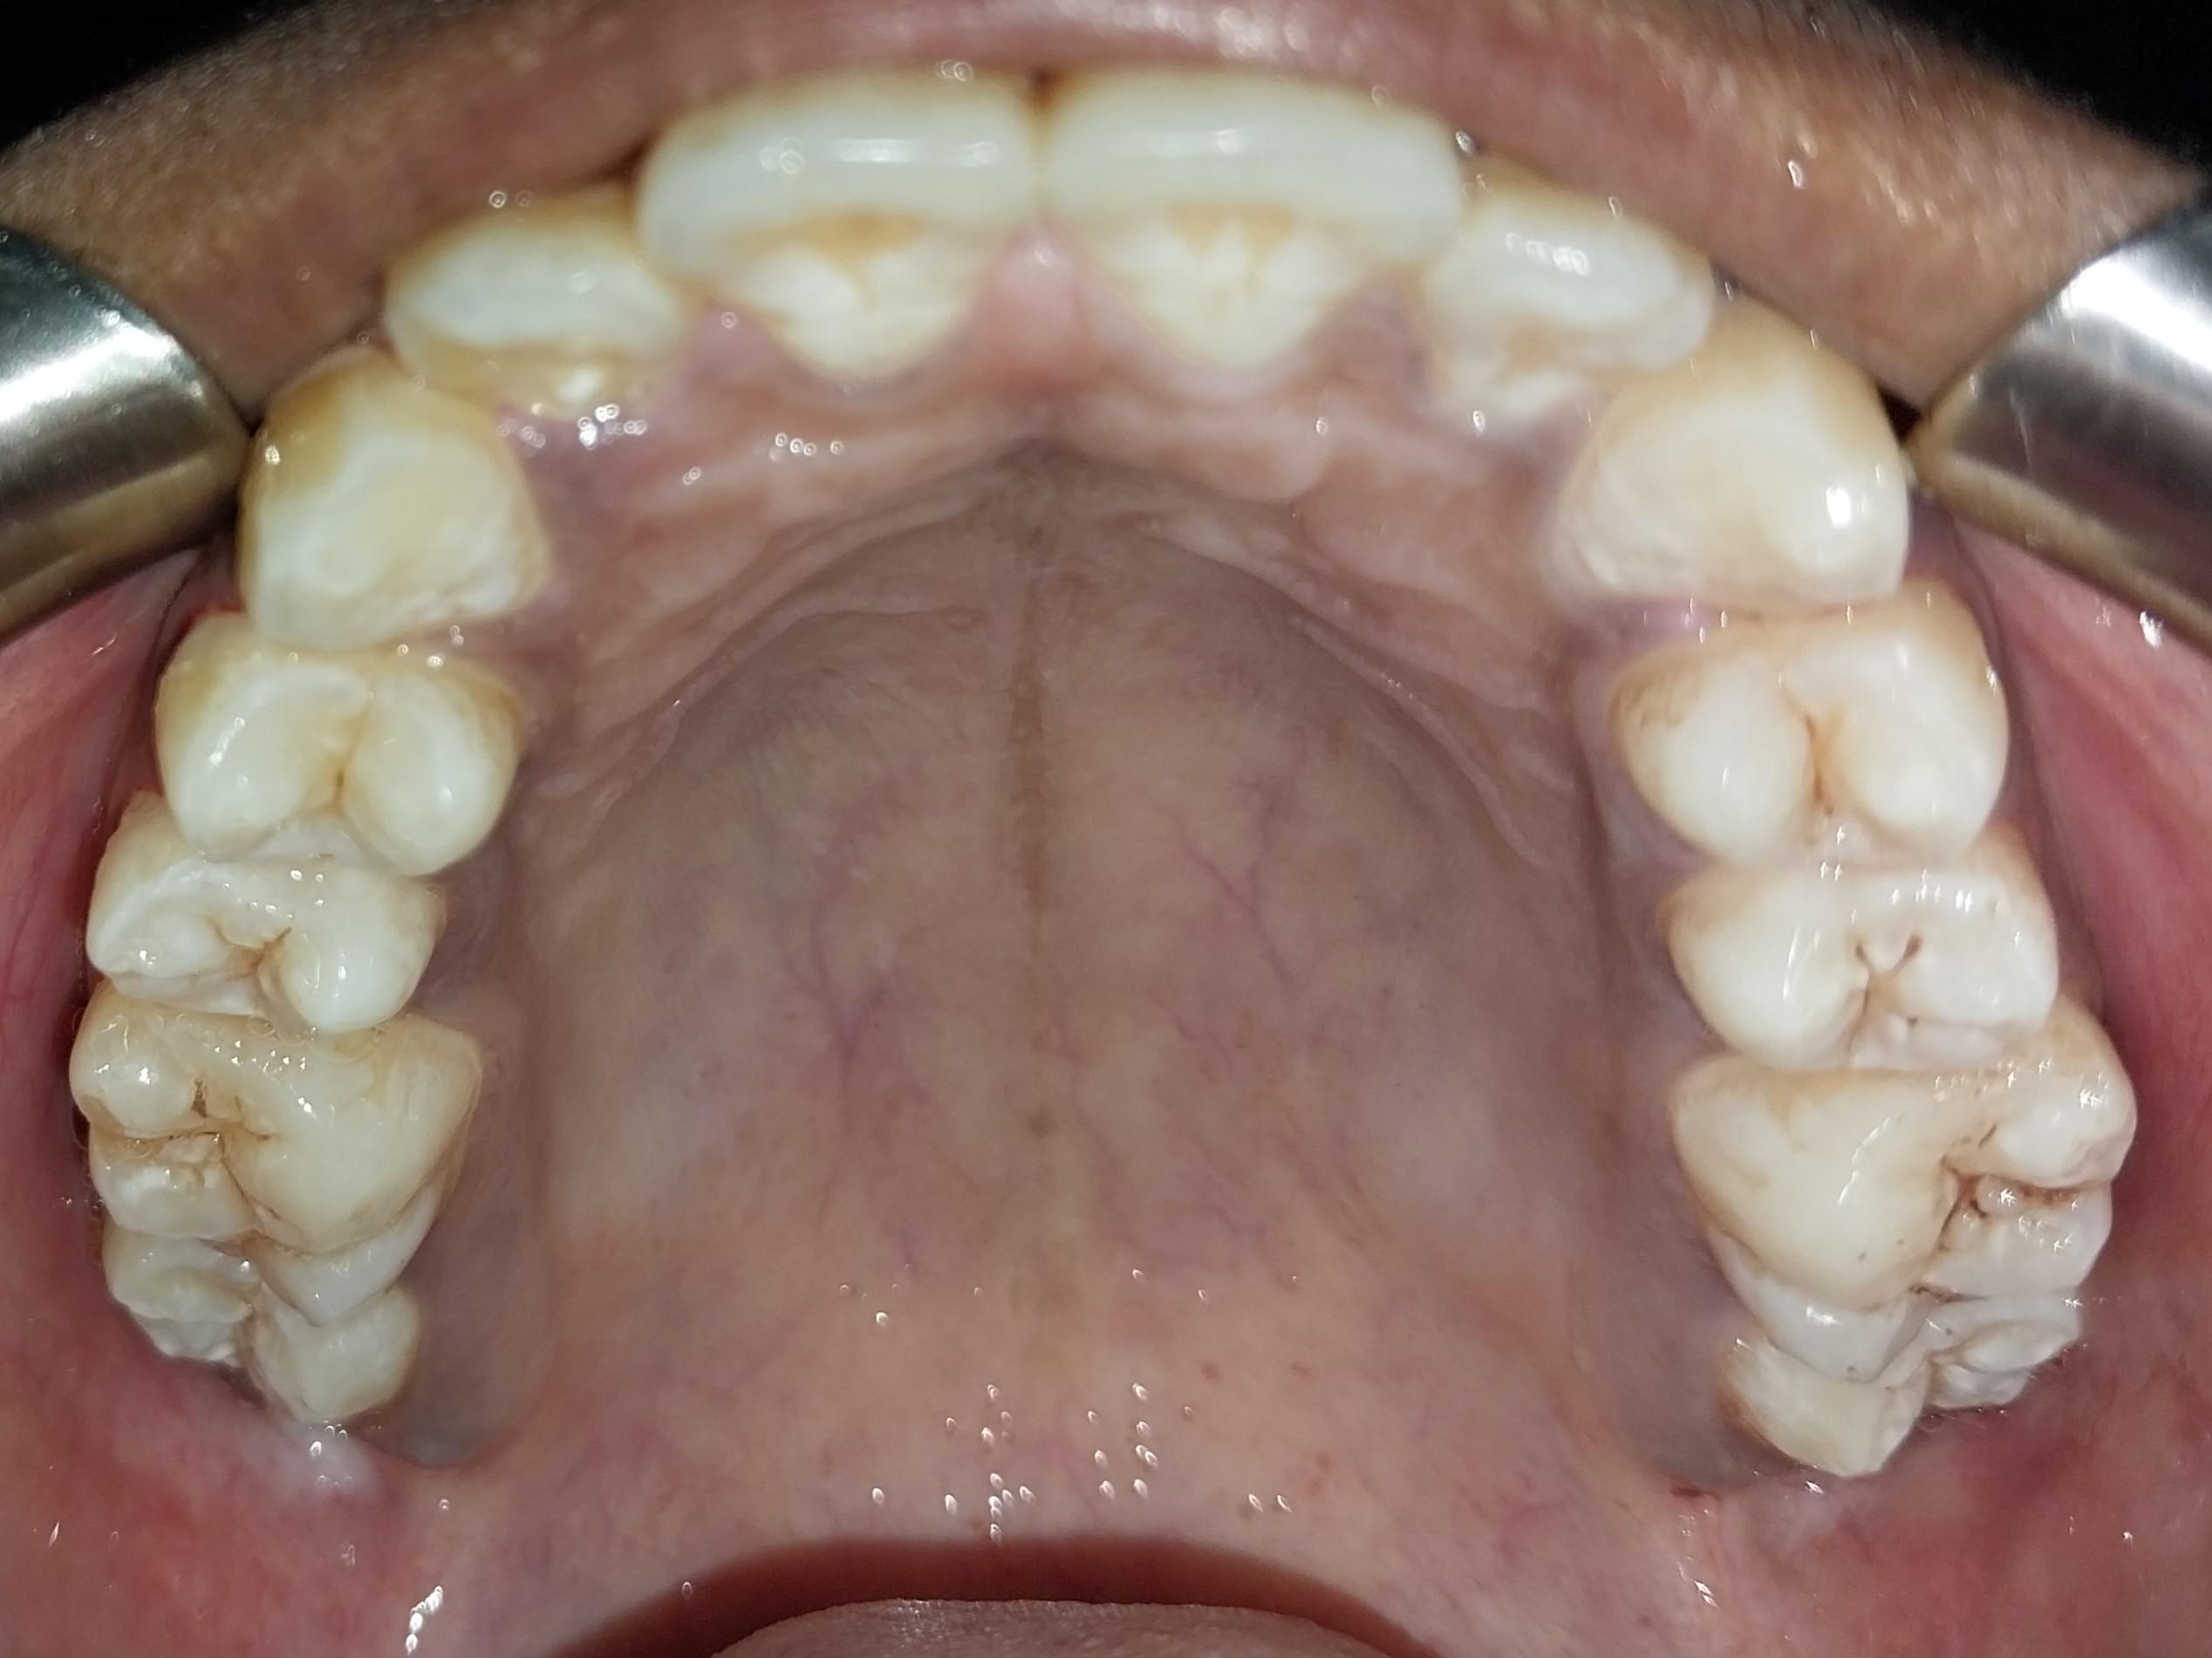D: (1670, 1014, 2135, 1382), (68, 977, 474, 1318), (1667, 840, 2063, 1071)
